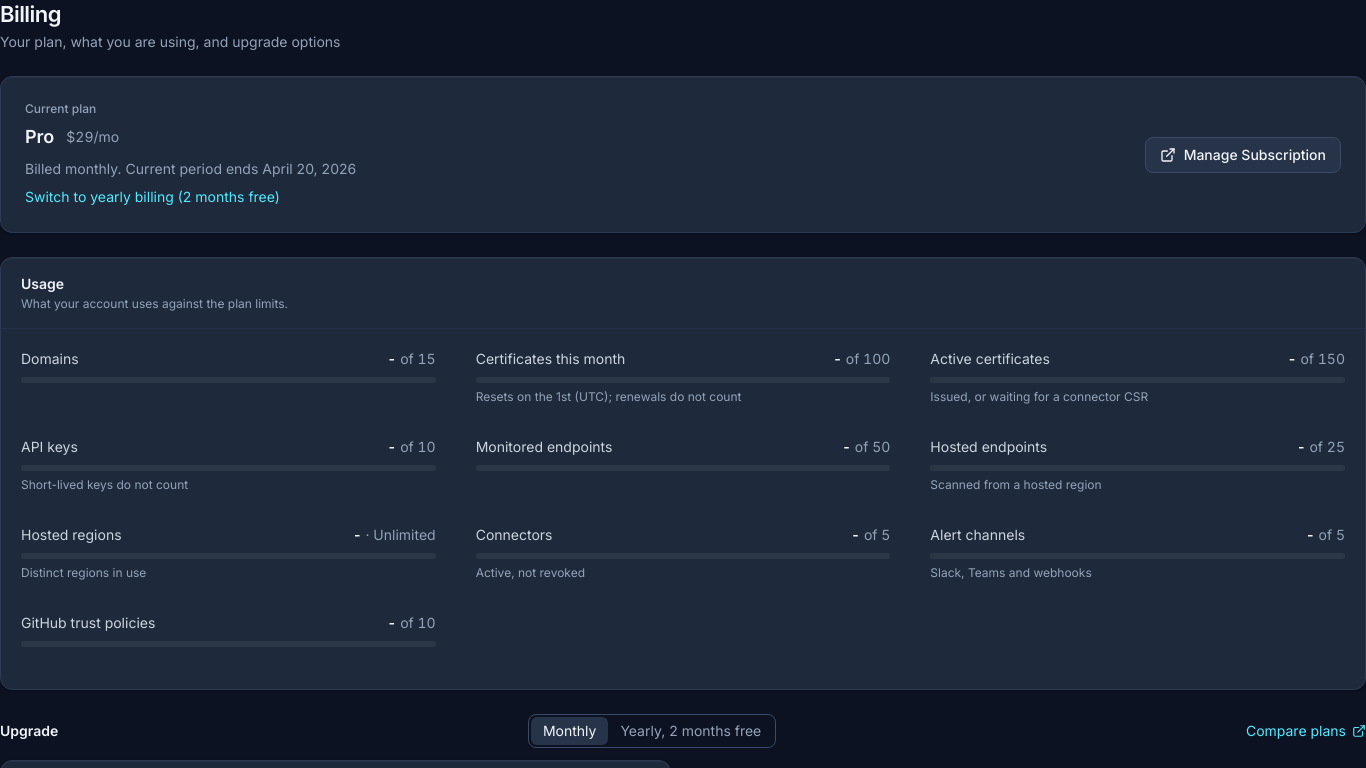
Test: Billing › annual billing › explains a new billing period when the upgrade changes the interval
Click the radio button labelled "Yearly, 2 months free" at (691, 731), box [608,717,773,745]
(page scrolled)
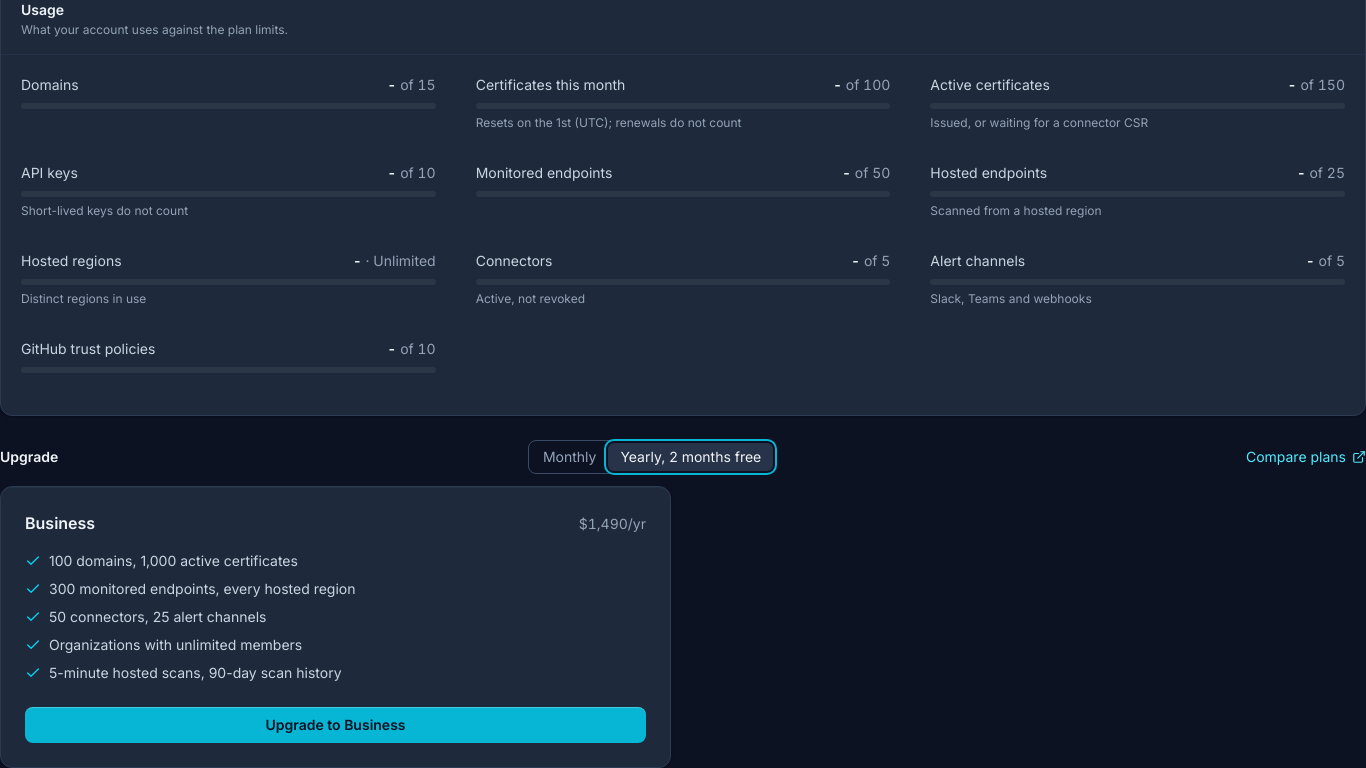
Click the button "Upgrade to Business" at (336, 725), box [25,707,646,743]
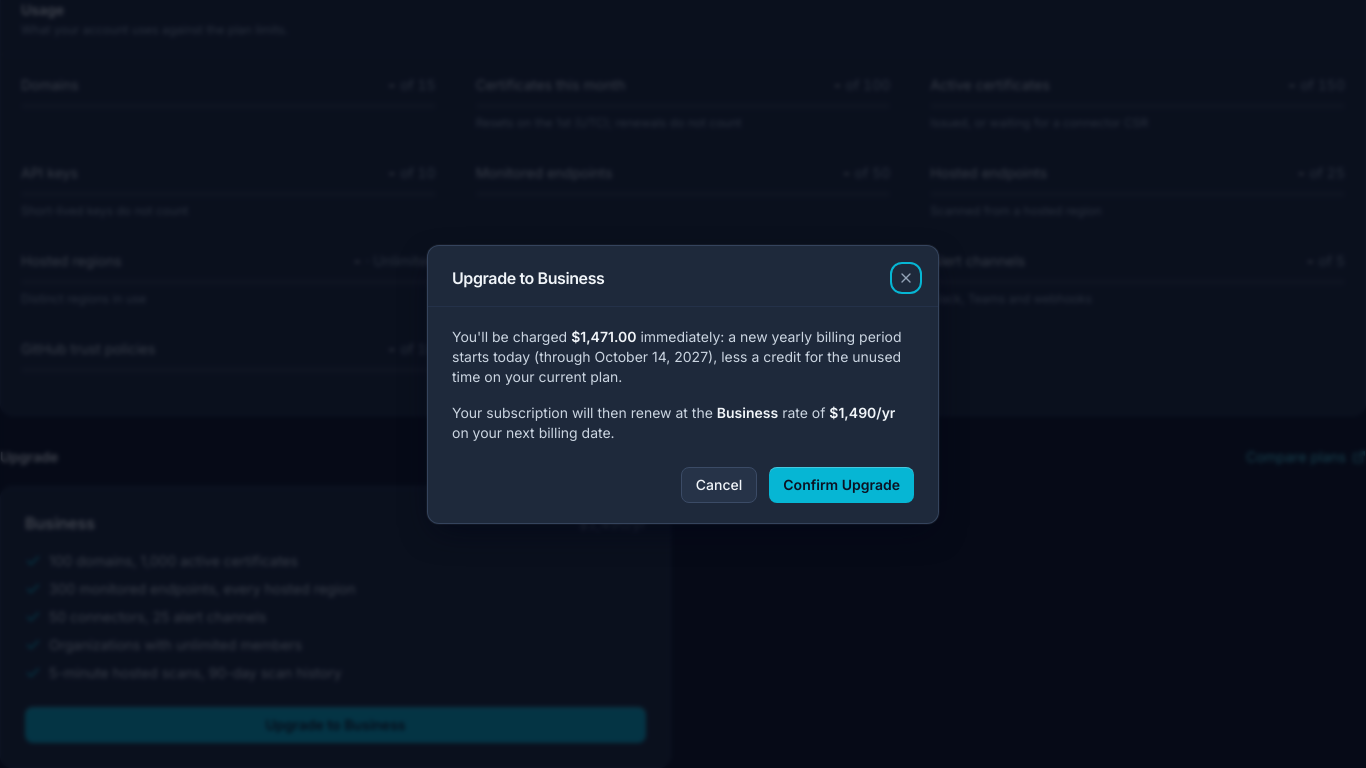
Check: the text "a new yearly billing period starts today" is shown, box [452,326,914,386]
Check: the text "$1,471.00" is shown, box [571,328,636,344]
